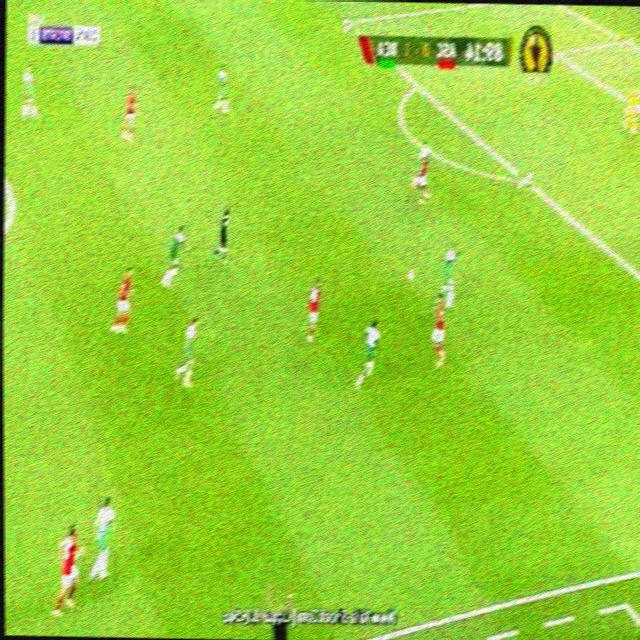bigarea_top_inner: (342, 15, 355, 32)
bottom_arc_area_intersection: (517, 170, 532, 188)
smallarea_top_inner: (553, 47, 562, 62)
smallarea_top_outter: (618, 32, 632, 48)
top_arc_area_intersection: (413, 78, 423, 92)
